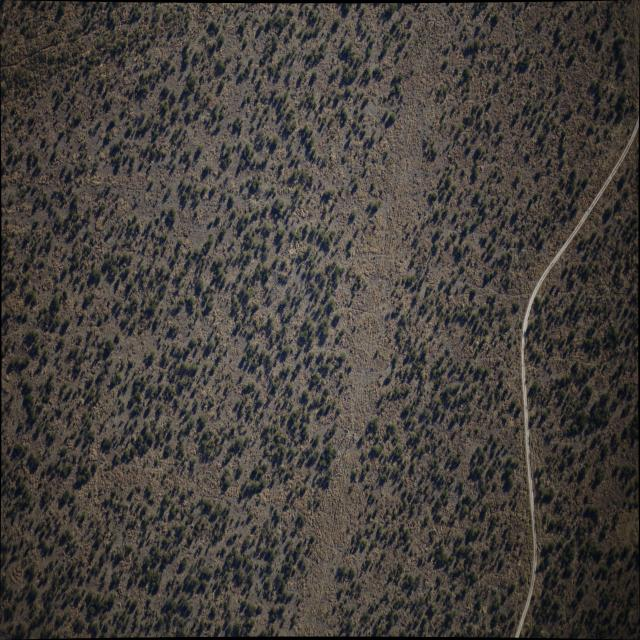elephant: (149, 160, 154, 168)
